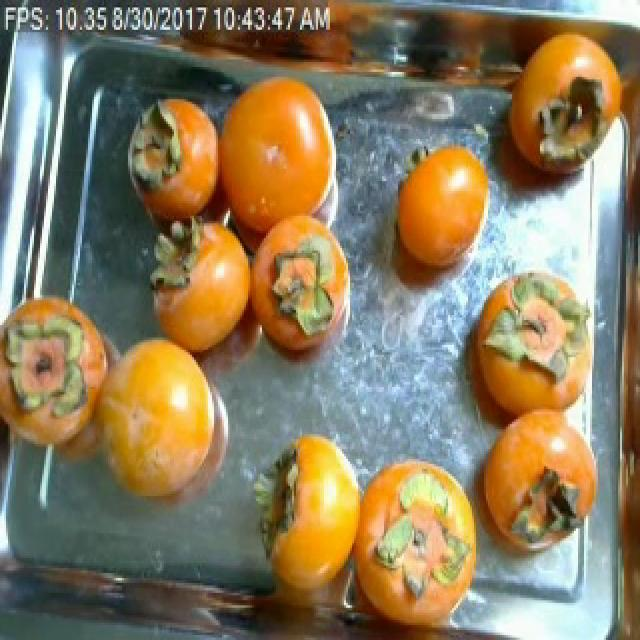Fruit: (202, 54, 334, 266), (374, 126, 500, 312), (2, 280, 110, 422)
